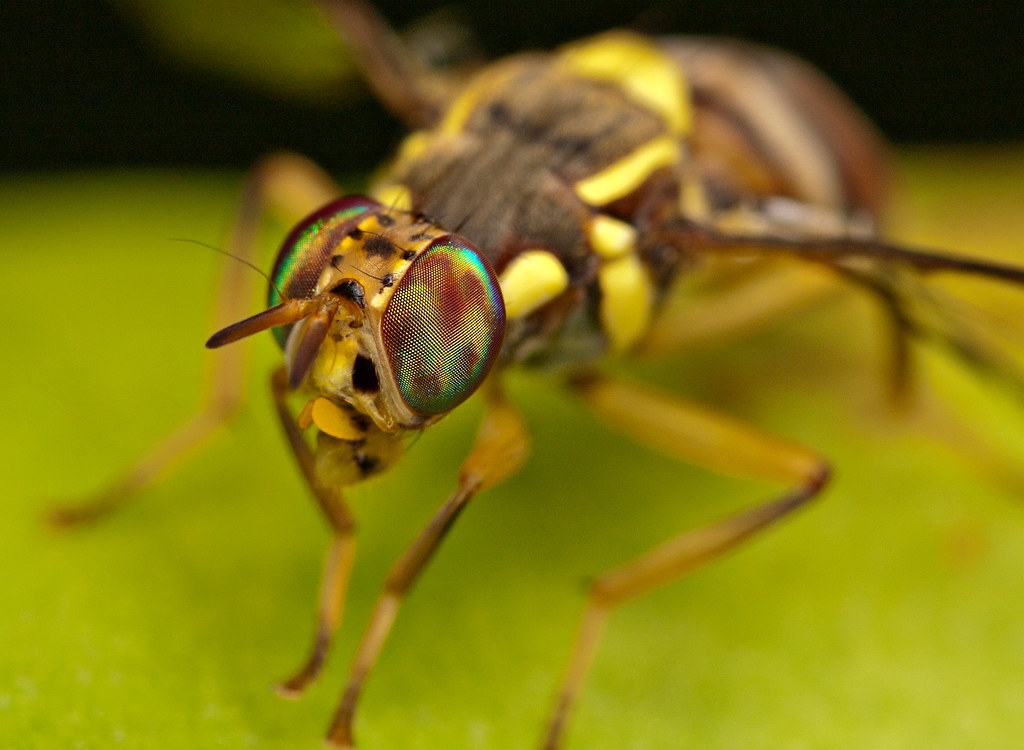Fruit fly: (156, 20, 957, 711)
